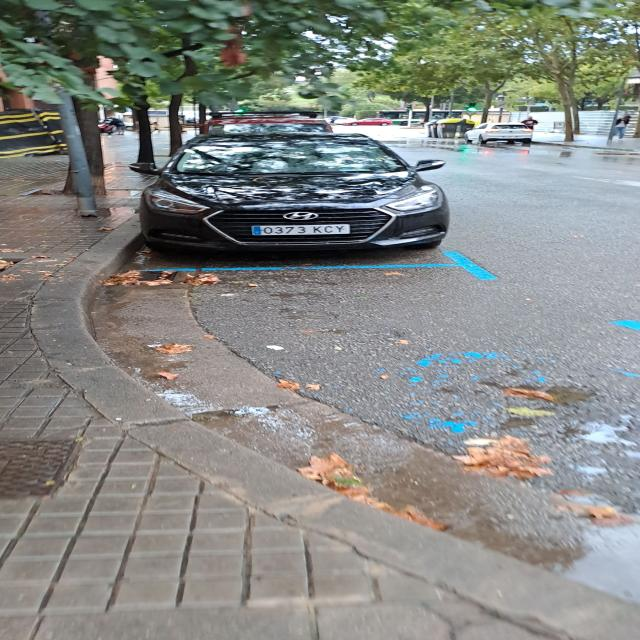license_plate-34Td: (252, 224, 350, 236)
